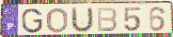5: (123, 6, 142, 32)
6: (149, 5, 167, 32)
B: (97, 7, 119, 33)
G: (21, 7, 44, 34)
O: (45, 7, 69, 34)
U: (70, 6, 95, 34)
